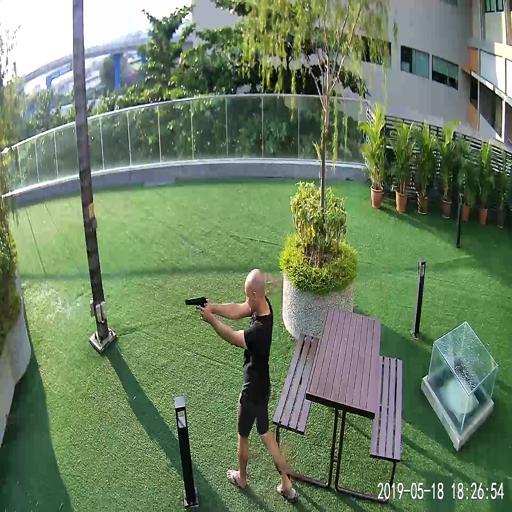pistol: (183, 296, 208, 319)
